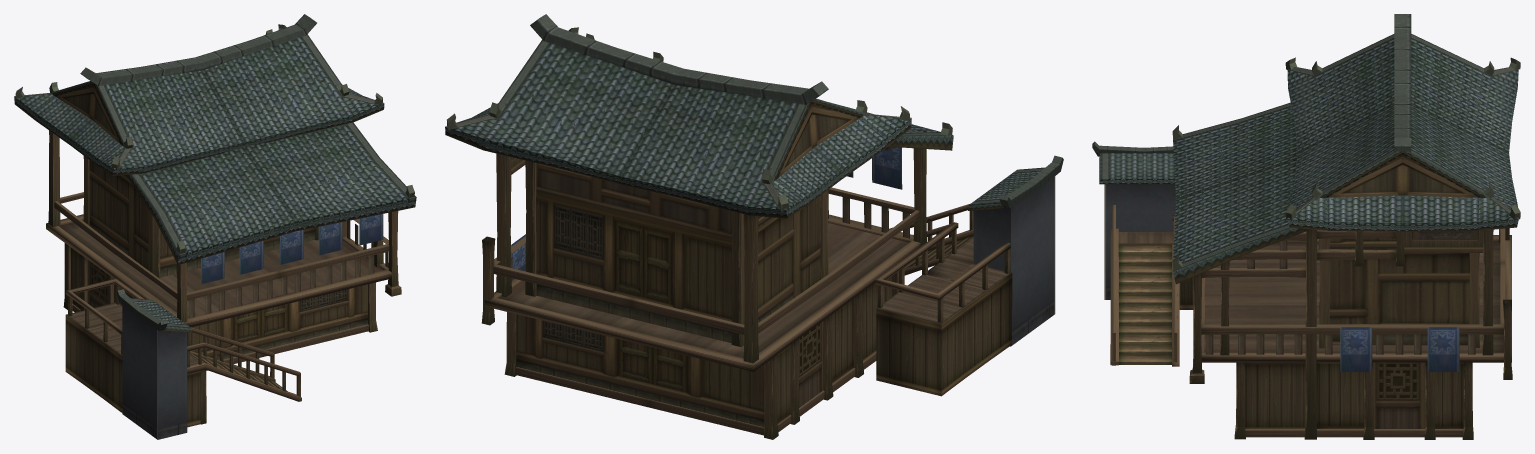
File: ZZL_building_01.FBX
The picture shows the model from 3 angles, left to right: view 1: azimuth 30°, elevation 25°; view 2: azimuth 150°, elevation 25°; view 3: azimuth 270°, elevation 25°; orthographic projection. The views are drawn at different scales.
Parts seen in each view (by area): view 1: ZZL_building_01; view 2: ZZL_building_01; view 3: ZZL_building_01.
Boxes of the visible parts, left/top/right/bottom form: ZZL_building_01: left=14, top=14, right=416, bottom=439; ZZL_building_01: left=445, top=14, right=1063, bottom=439; ZZL_building_01: left=1092, top=14, right=1520, bottom=439.
Size of the model in its own units: 2139 by 1737 by 2222.
1 material, 1 textured.
